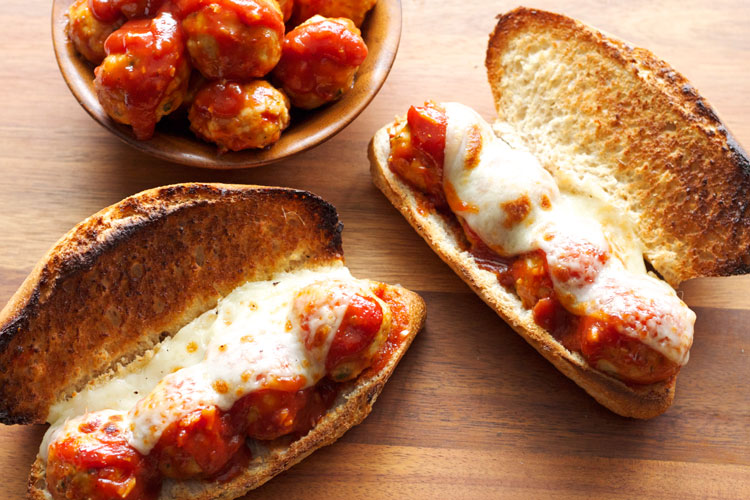meatballs: (293, 281, 385, 370), (588, 286, 674, 375), (147, 399, 236, 482), (100, 29, 184, 111), (52, 421, 145, 495), (193, 1, 282, 75), (505, 231, 582, 309), (283, 22, 359, 98), (194, 85, 282, 149), (240, 360, 312, 438), (396, 107, 475, 170)
slice of bread: (1, 179, 343, 371), (498, 5, 750, 241)
